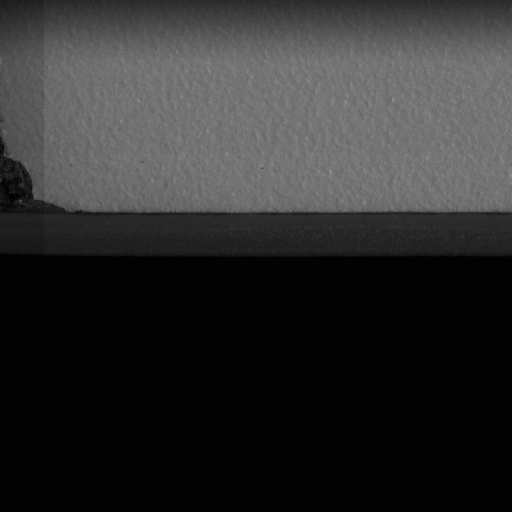bengque: (0, 150, 84, 219)
